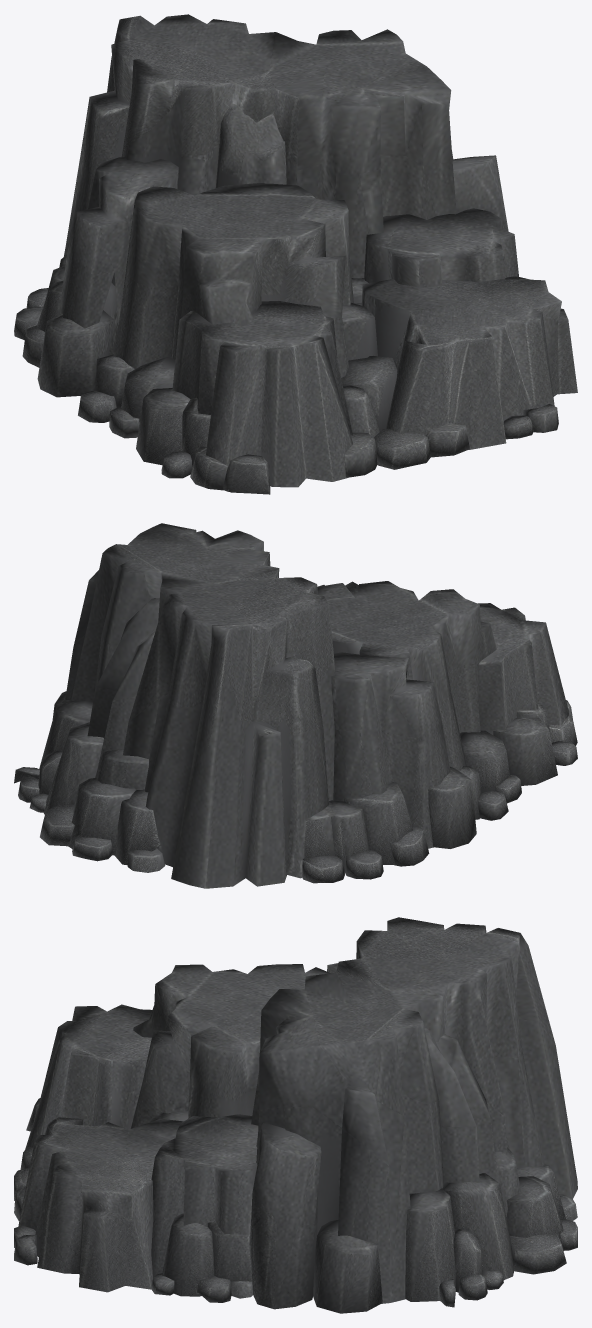
The model's file is rock_formation_reference_v1.glb.
The picture shows the model from 3 angles, top to bottom: view 1: azimuth 30°, elevation 25°; view 2: azimuth 150°, elevation 25°; view 3: azimuth 270°, elevation 25°; orthographic projection. The views are drawn at different scales.
Bounding box in the file's own units: 0.8889 × 0.4928 × 1.
1 material, 1 textured.
